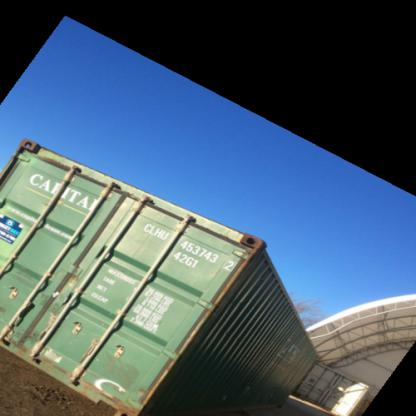Damage: (83, 350, 133, 393), (8, 327, 45, 360), (114, 396, 142, 412), (0, 297, 14, 315)
